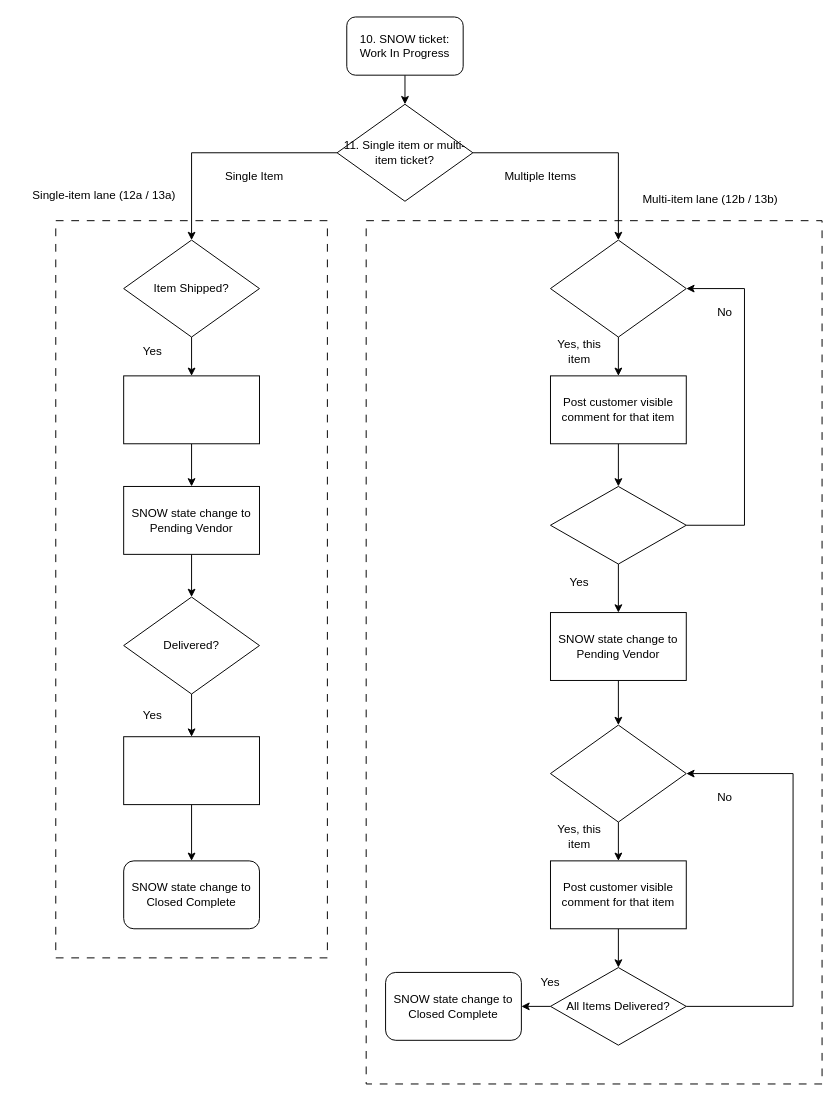
This 839x1101 diagram has some shape labels left out. Each missing label, with the box of its shape:
All item shipped?: (550, 485, 686, 564)
Items Delivered?: (550, 724, 686, 822)
Items Shipped?: (550, 239, 686, 337)
Post customer comment: delivered + carrier + tracking#: (123, 736, 259, 805)
Post customer visible comment: shipped + carrier + tracking#: (123, 375, 259, 444)
